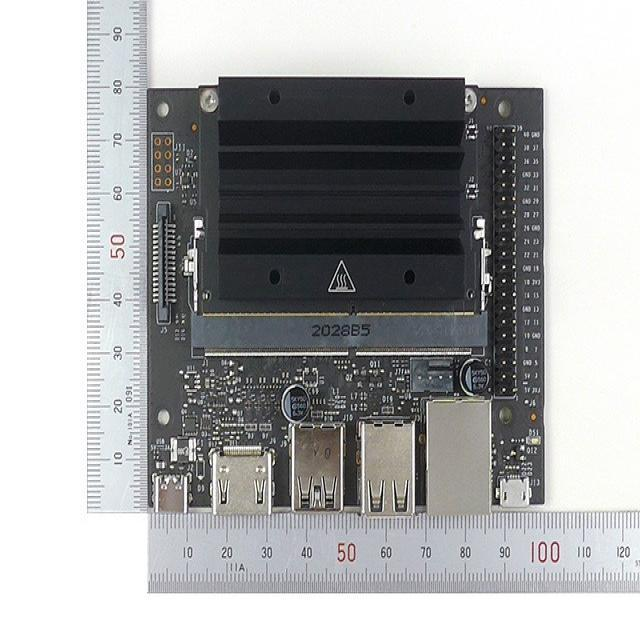Jetson Nano: (148, 77, 546, 513)
